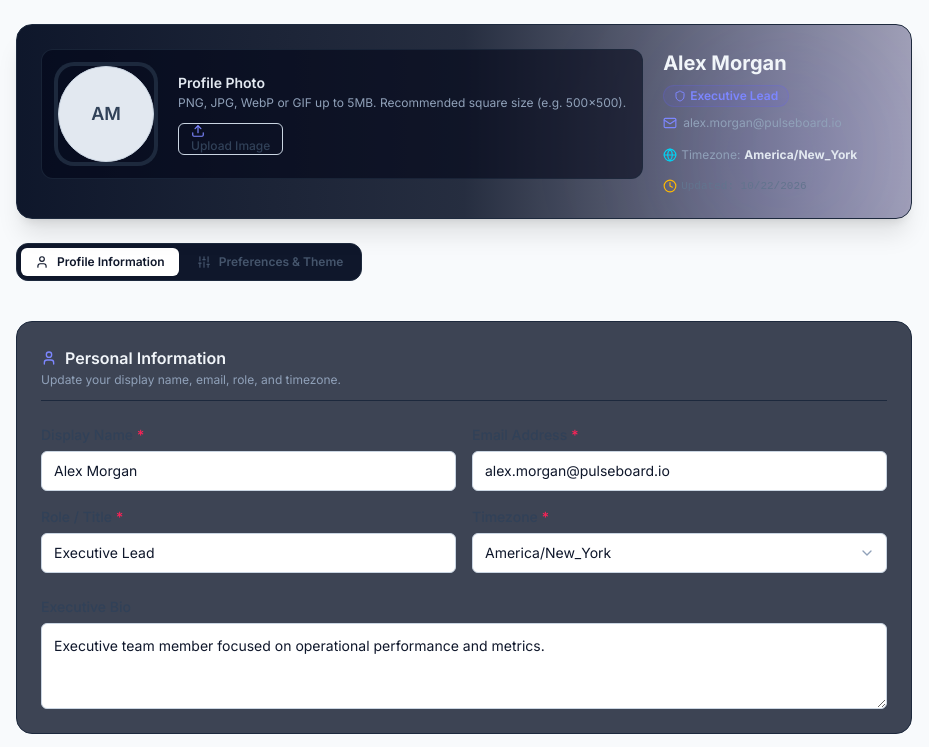
Test: ProfilePage Integration Tests › allows editing display name and submitting changes
In the field labelled "Display Name *": {"x": 248, "y": 471} x1=41 y1=451 x2=456 y2=491, type "Alex Morgan Updated"
(page scrolled)
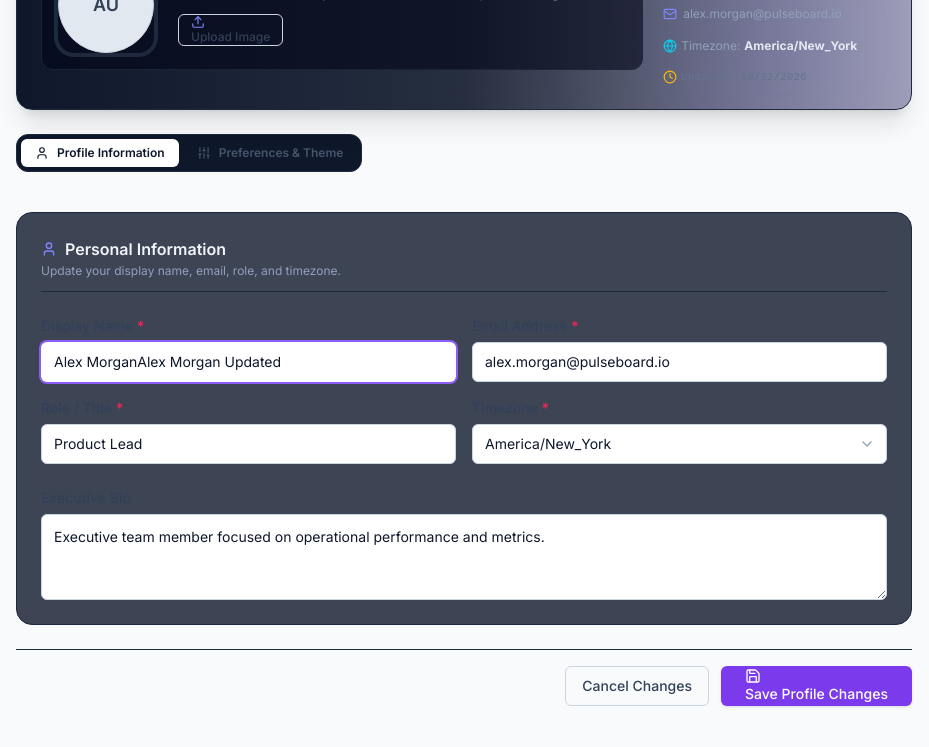
Click the button "Save Profile Changes": {"x": 816, "y": 686} x1=721 y1=666 x2=912 y2=706
(page scrolled)
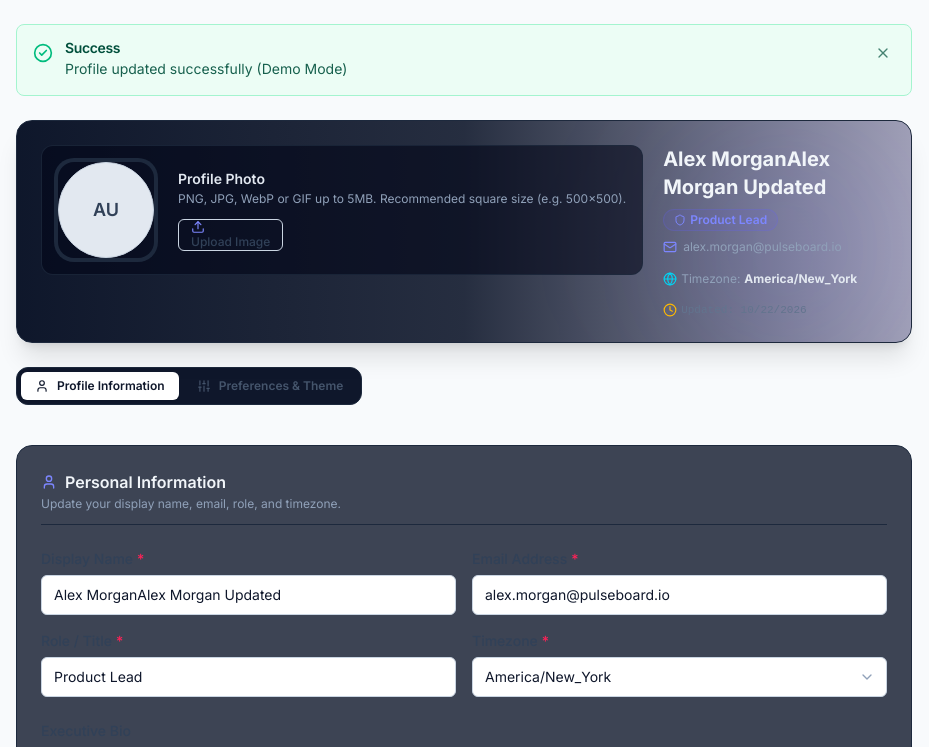
Check: the text "Profile updated successfully (Demo Mode)" is shown, box x1=65 y1=60 x2=347 y2=77
